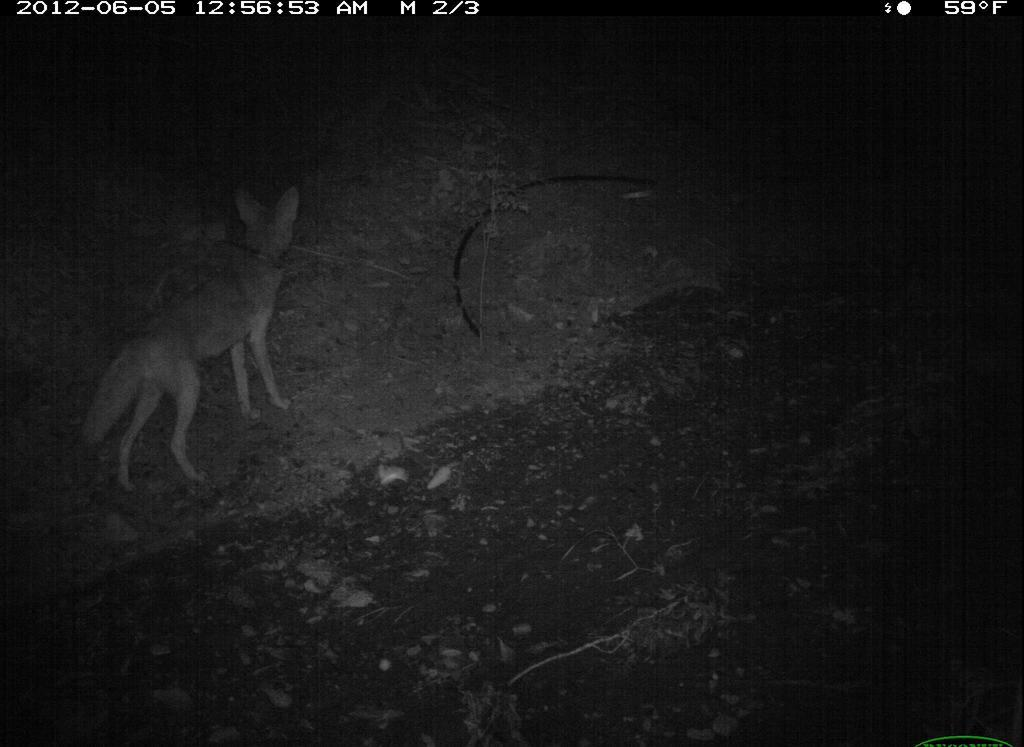coyote: (57, 180, 310, 498)
